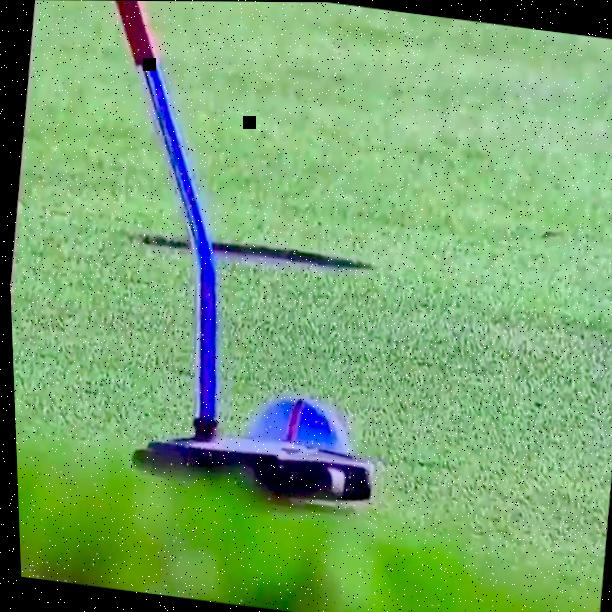ClubHead: (130, 421, 376, 507)
GolfBall: (251, 391, 343, 451)
